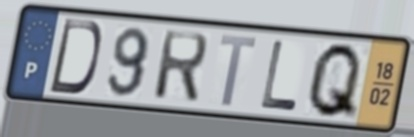9: (108, 24, 152, 100)
D: (46, 16, 105, 97)
L: (258, 38, 300, 114)
Q: (303, 40, 365, 123)
R: (150, 28, 211, 106)
T: (217, 32, 260, 110)
